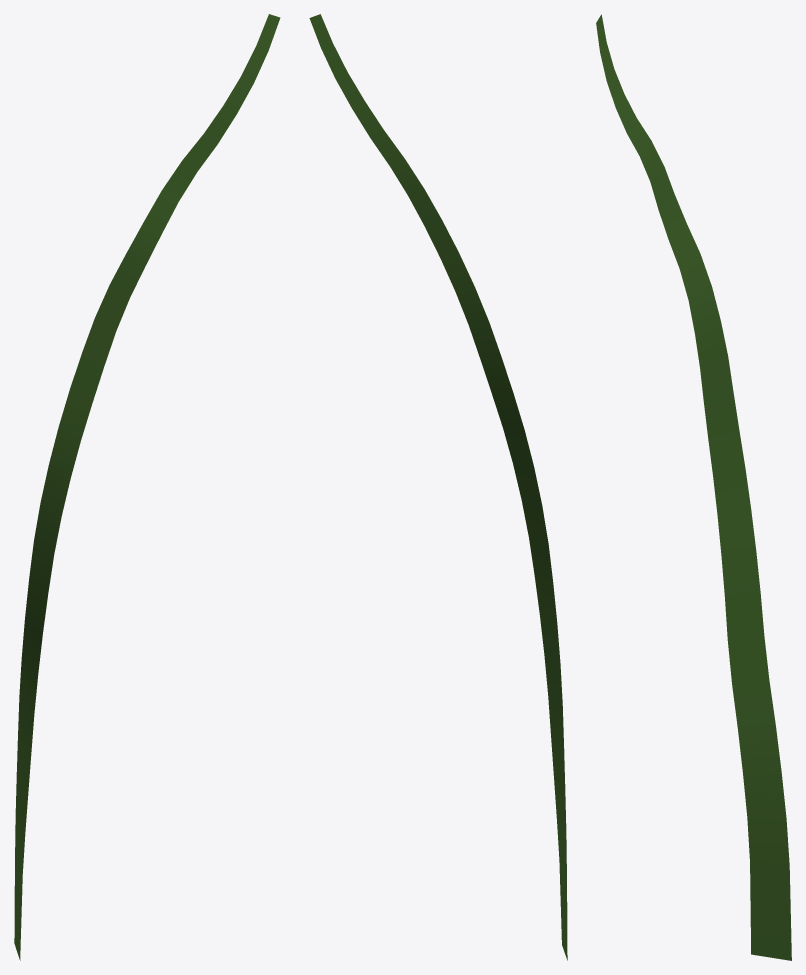
The model's file is plant_swamp_kelp_giant_B_solo_F.fbx.
3 renders of one model, left to right at view 1: azimuth 30°, elevation 25°; view 2: azimuth 210°, elevation 25°; view 3: azimuth 270°, elevation 25°, orthographic. The views are drawn at different scales.
Parts seen in each view (by area): view 1: plant_swamp_kelp_giant_B_solo_F; view 2: plant_swamp_kelp_giant_B_solo_F; view 3: plant_swamp_kelp_giant_B_solo_F.
Boxes of the visible parts, bbox=[...] form: plant_swamp_kelp_giant_B_solo_F: bbox=[14, 14, 280, 960]; plant_swamp_kelp_giant_B_solo_F: bbox=[309, 14, 567, 960]; plant_swamp_kelp_giant_B_solo_F: bbox=[596, 14, 791, 960].
Size of the model in its own units: 90.54 by 436 by 74.78.
